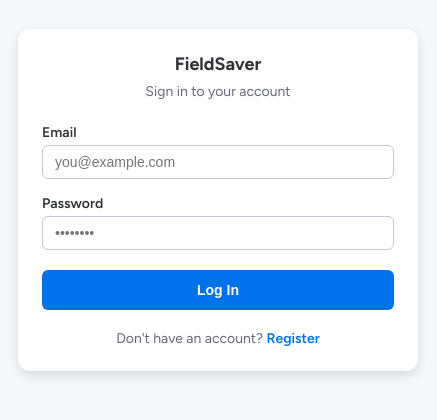
LoginPage › should show error when email is empty on submit
The image size is (437, 420).
Click the button "Log In" at {"x": 218, "y": 290}, box 42,270 -> 394,310
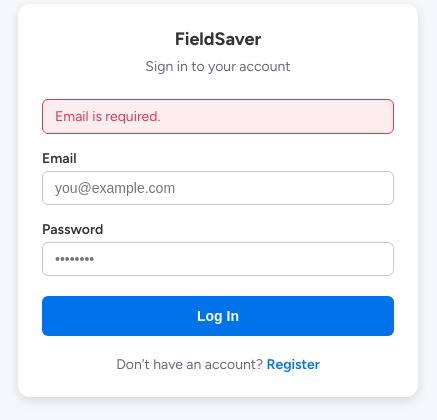
Expected: the text "Email is required." is shown, 42,98 -> 394,134
